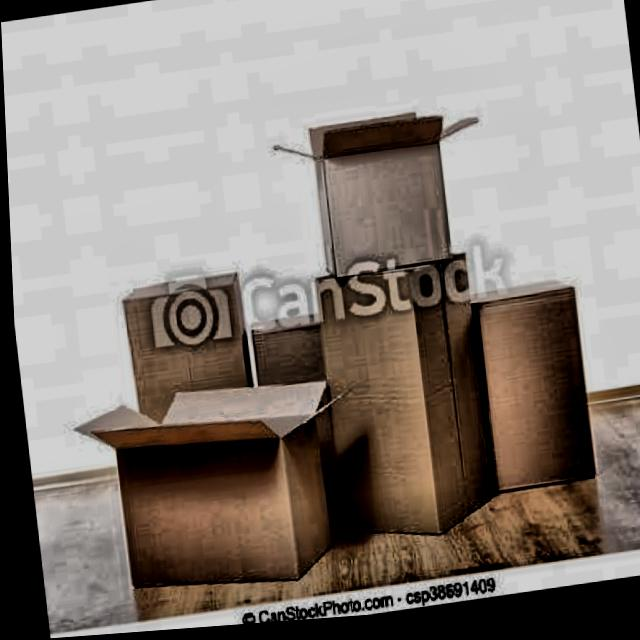Cardbox: (94, 237, 640, 635), (25, 369, 418, 639), (211, 114, 462, 343), (114, 264, 325, 443), (312, 116, 444, 167)
